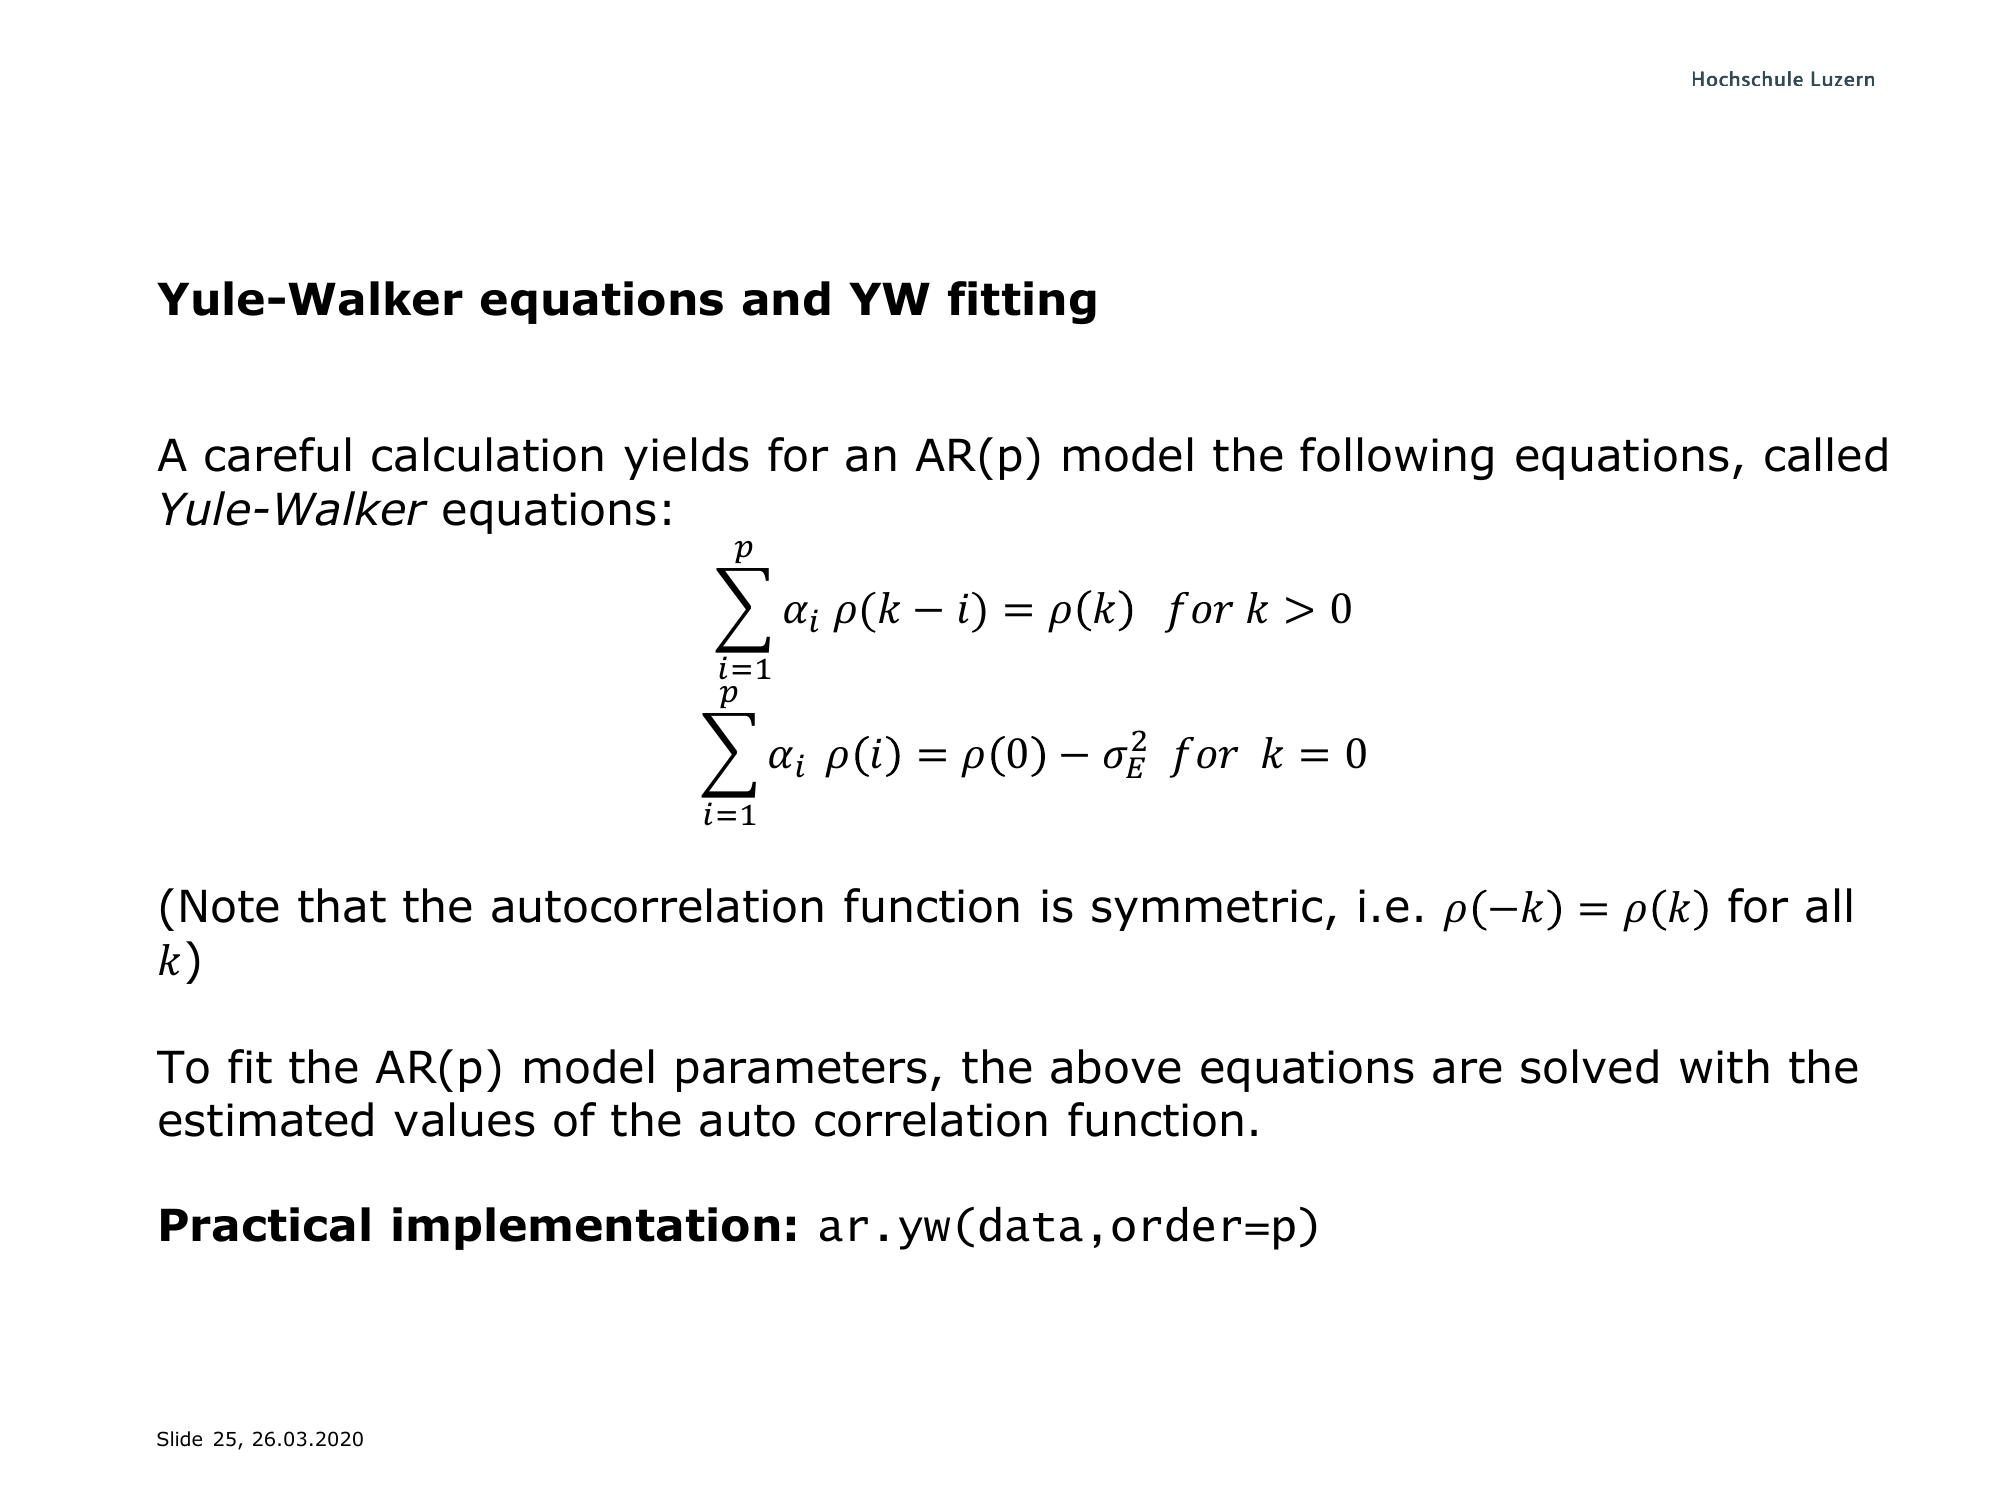Title: (131, 254, 1109, 347)
